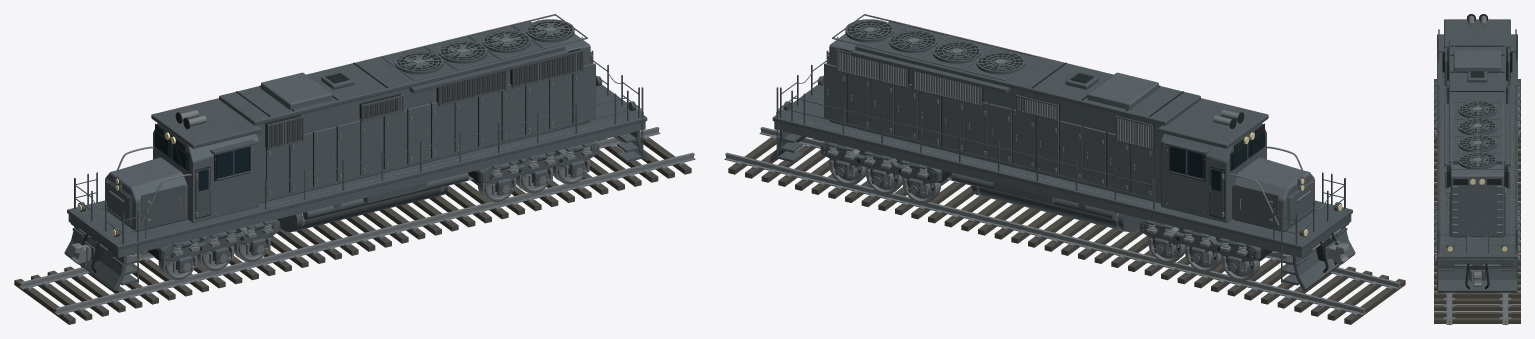
Rendered from diesel-locomotive.glb.
3 views of the same model, side by side, from view 1: azimuth 30°, elevation 25°; view 2: azimuth 150°, elevation 25°; view 3: azimuth 270°, elevation 25° (orthographic). The views are drawn at different scales.
Visible parts, largest first — view 1: panels-and-hardware-paint-batch, display-rails-sleeper-batch, walkways-and-guards-deck-batch, long-engine-hood-trim-batch, display-rails-steel-batch, cab-and-short-nose-paint-batch, cab-and-short-nose-trim-batch, chassis-and-tanks-paint-batch, panels-and-hardware-steel-batch, long-engine-hood-paint-batch, panels-and-hardware-dark-batch, chassis-and-tanks-trim-batch (+13 smaller); view 2: panels-and-hardware-paint-batch, display-rails-sleeper-batch, walkways-and-guards-deck-batch, long-engine-hood-trim-batch, display-rails-steel-batch, cab-and-short-nose-paint-batch, cab-and-short-nose-trim-batch, chassis-and-tanks-paint-batch, panels-and-hardware-steel-batch, long-engine-hood-paint-batch, panels-and-hardware-dark-batch, chassis-and-tanks-trim-batch (+13 smaller); view 3: walkways-and-guards-deck-batch, long-engine-hood-trim-batch, long-engine-hood-paint-batch, display-rails-sleeper-batch, pilots-and-couplers-trim-batch, cab-and-short-nose-trim-batch, roof-fans-and-exhaust-steel-batch, roof-fans-and-exhaust-paint-batch, roof-fans-and-exhaust-dark-batch, roof-fans-and-exhaust-trim-batch, walkways-and-guards-trim-batch, display-rails-steel-batch (+14 smaller).
Part boxes in pixels (bbox=[...]): panels-and-hardware-paint-batch: bbox=[105, 63, 595, 224]; display-rails-sleeper-batch: bbox=[14, 137, 691, 324]; walkways-and-guards-deck-batch: bbox=[67, 84, 647, 285]; long-engine-hood-trim-batch: bbox=[219, 21, 568, 125]; display-rails-steel-batch: bbox=[18, 127, 695, 315]; cab-and-short-nose-paint-batch: bbox=[105, 123, 258, 231]; cab-and-short-nose-trim-batch: bbox=[109, 98, 261, 228]; chassis-and-tanks-paint-batch: bbox=[68, 121, 645, 257]; panels-and-hardware-steel-batch: bbox=[106, 52, 592, 223]; long-engine-hood-paint-batch: bbox=[225, 33, 590, 203]; panels-and-hardware-dark-batch: bbox=[155, 48, 580, 192]; chassis-and-tanks-trim-batch: bbox=[70, 172, 468, 257]; panels-and-hardware-paint-batch: bbox=[824, 63, 1314, 224]; display-rails-sleeper-batch: bbox=[728, 137, 1405, 324]; walkways-and-guards-deck-batch: bbox=[772, 84, 1352, 285]; long-engine-hood-trim-batch: bbox=[851, 21, 1200, 125]; display-rails-steel-batch: bbox=[724, 127, 1401, 315]; cab-and-short-nose-paint-batch: bbox=[1161, 123, 1314, 231]; cab-and-short-nose-trim-batch: bbox=[1158, 98, 1310, 228]; chassis-and-tanks-paint-batch: bbox=[774, 121, 1351, 257]; panels-and-hardware-steel-batch: bbox=[827, 52, 1313, 223]; long-engine-hood-paint-batch: bbox=[829, 33, 1194, 203]; panels-and-hardware-dark-batch: bbox=[839, 48, 1264, 192]; chassis-and-tanks-trim-batch: bbox=[951, 172, 1349, 257]; walkways-and-guards-deck-batch: bbox=[1437, 52, 1517, 271]; long-engine-hood-trim-batch: bbox=[1444, 40, 1510, 166]; long-engine-hood-paint-batch: bbox=[1450, 163, 1504, 237]; display-rails-sleeper-batch: bbox=[1434, 79, 1520, 323]; pilots-and-couplers-trim-batch: bbox=[1437, 244, 1517, 292]; cab-and-short-nose-trim-batch: bbox=[1439, 19, 1515, 84]; roof-fans-and-exhaust-steel-batch: bbox=[1453, 15, 1501, 167]; roof-fans-and-exhaust-paint-batch: bbox=[1451, 50, 1503, 169]; roof-fans-and-exhaust-dark-batch: bbox=[1450, 14, 1504, 166]; roof-fans-and-exhaust-trim-batch: bbox=[1458, 71, 1496, 168]; walkways-and-guards-trim-batch: bbox=[1437, 29, 1517, 287]; display-rails-steel-batch: bbox=[1443, 292, 1511, 324].
Size of the model in its own units: 23 by 5.34 by 3.41.
9 materials, 3 textured.
